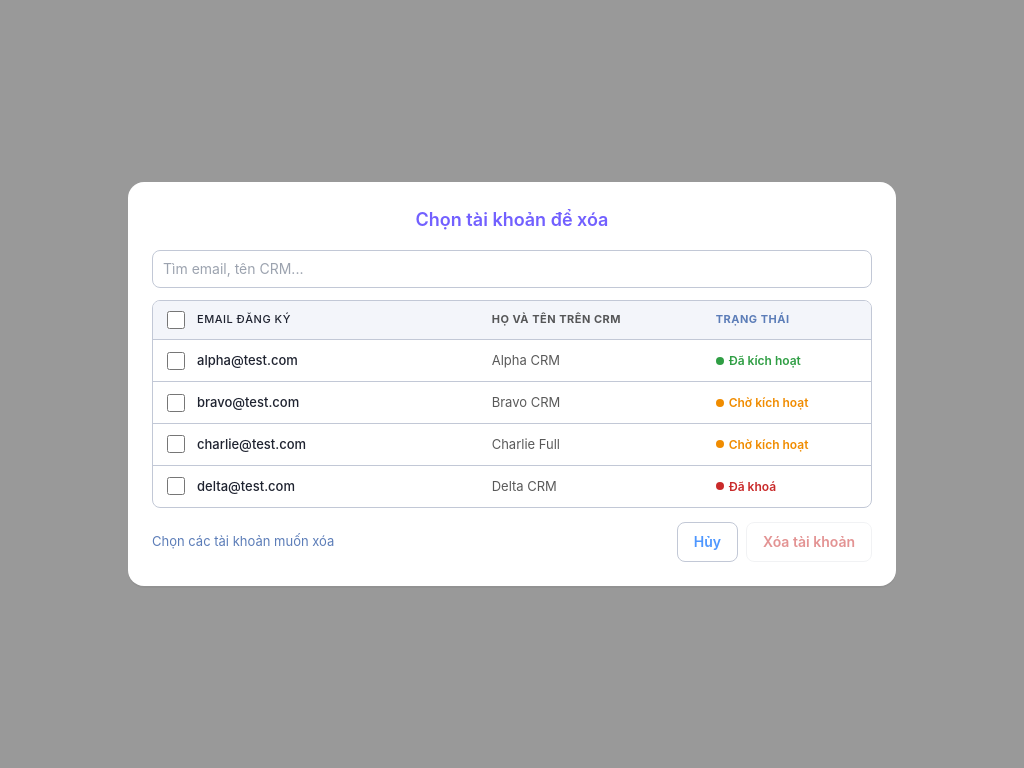
Test: DeleteAccountsModal › chọn 'tất cả' sau khi lọc KHÔNG xóa các lựa chọn nằm ngoài bộ lọc
# Bước 1: chọn alpha
Click the text "alpha@test.com".
click(512, 361)  # box left=153, top=340, right=871, bottom=382
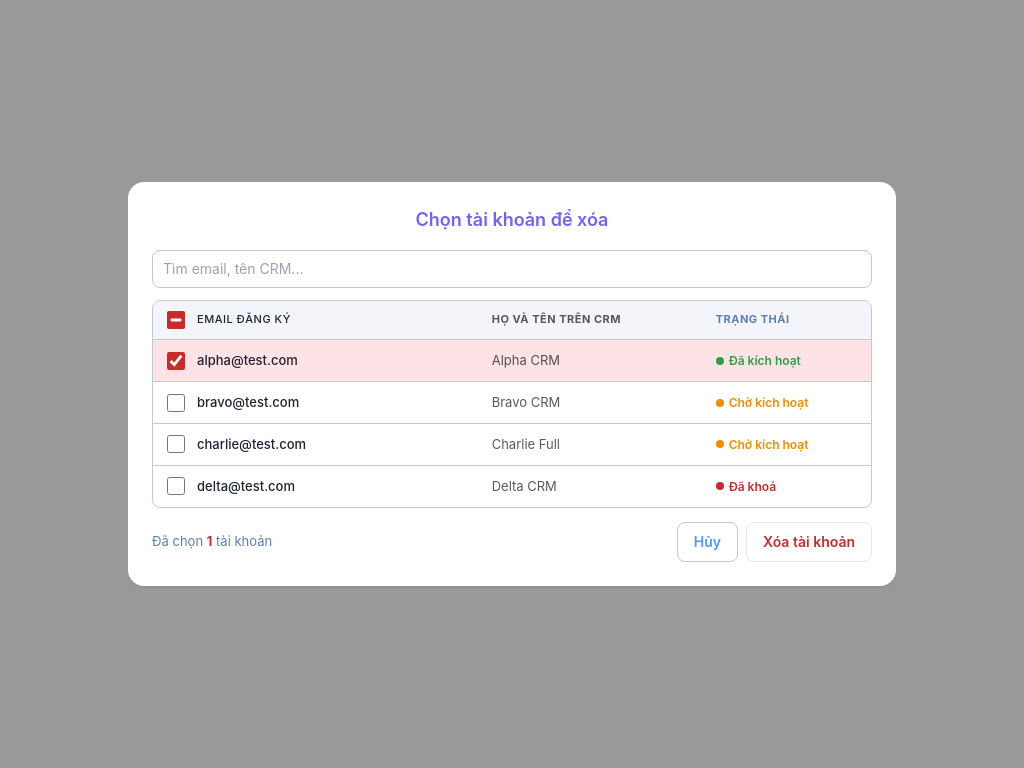
Expected: the text "Đã chọn 1 tài khoản" is shown, left=152, top=532, right=272, bottom=551
# Bước 2: lọc còn 'bravo' & 'charlie' không có
Type "bravo" into the search field with placeholder "Tìm email, tên CRM...".
click(512, 269); type("bravo")  # box left=152, top=250, right=872, bottom=288
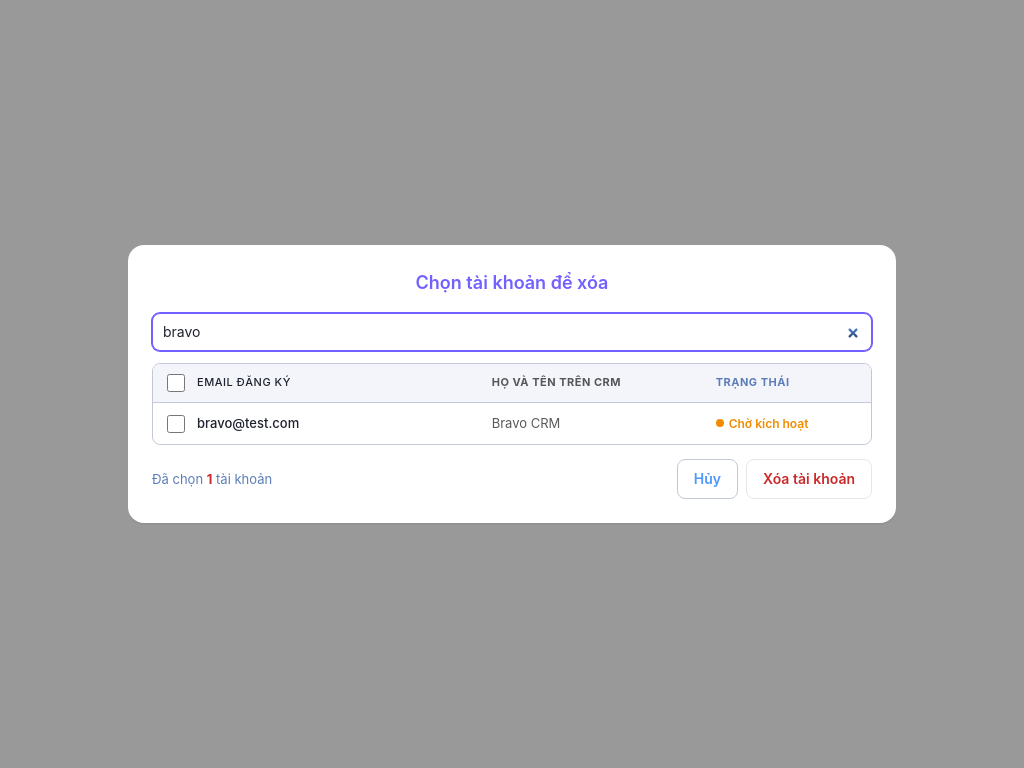
Expected: the text "alpha@test.com" is gone
Click the checkbox next to "Email đăng ký".
click(176, 383)  # box left=167, top=374, right=185, bottom=392
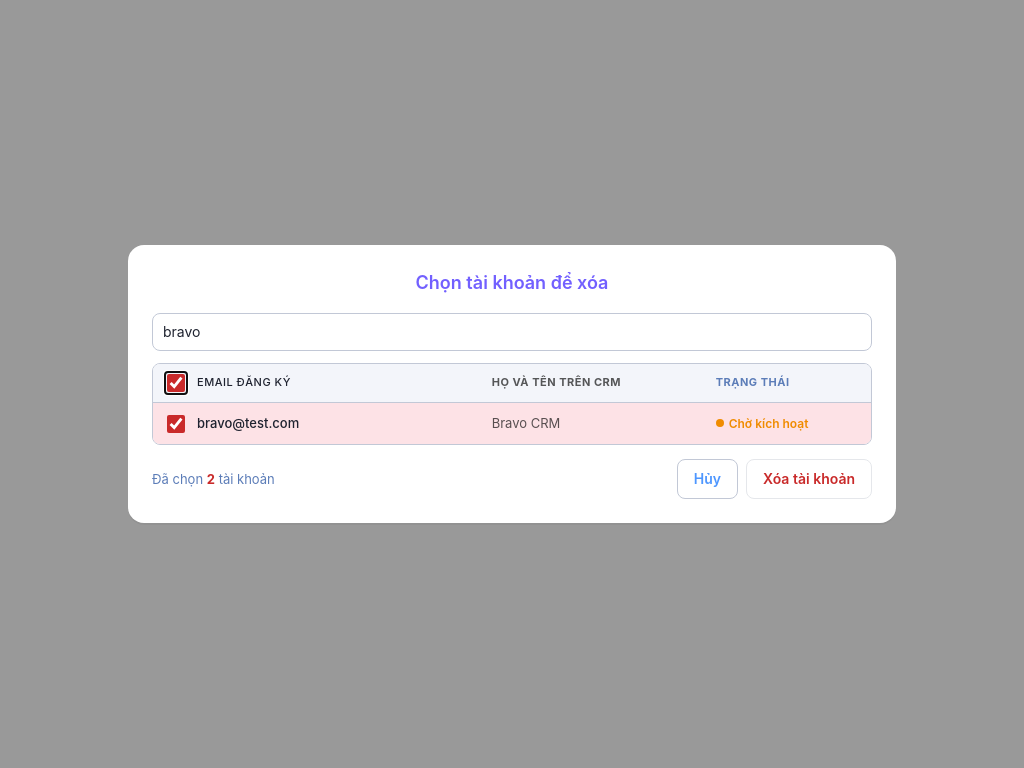
Expected: the text "Đã chọn 2 tài khoản" is shown, left=152, top=470, right=275, bottom=488
# Bước 4: bấm lại header để bỏ chọn rows đang hiển thị — alpha PHẢI vẫn còn
Click the checkbox next to "Email đăng ký".
click(176, 383)  # box left=167, top=374, right=185, bottom=392
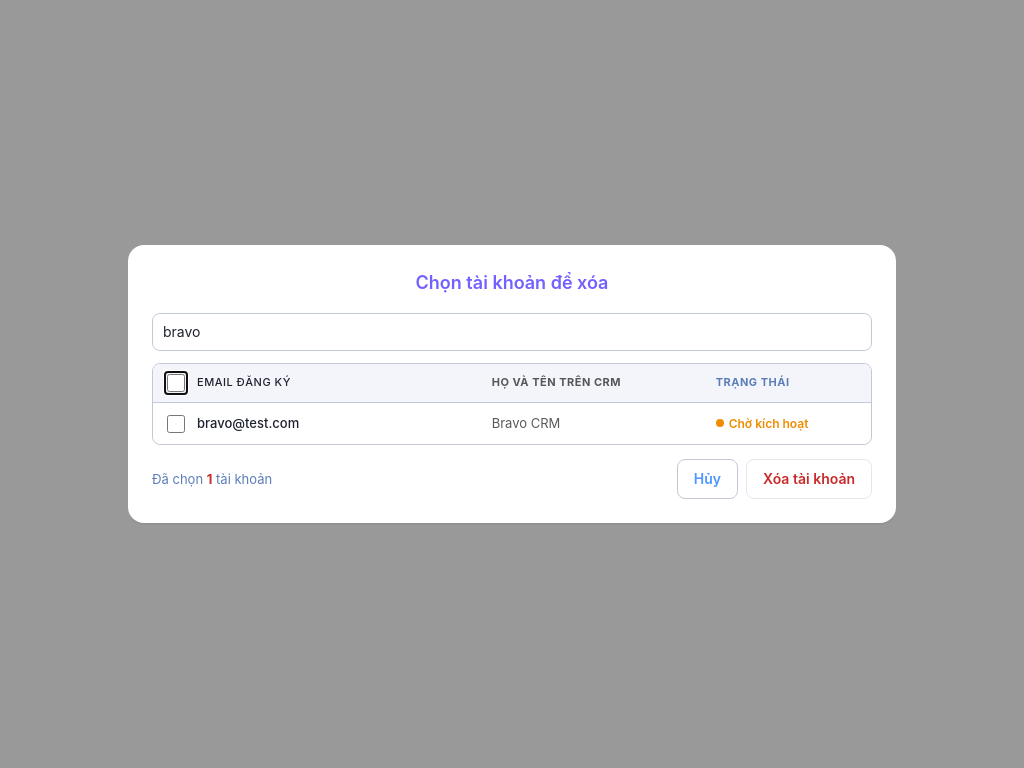
Expected: the text "Đã chọn 1 tài khoản" is shown, left=152, top=470, right=272, bottom=488
# Xóa filter → alpha vẫn được đánh dấu chọn
Clear the search field with placeholder "Tìm email, tên CRM..." at (512, 332), box left=152, top=313, right=872, bottom=351
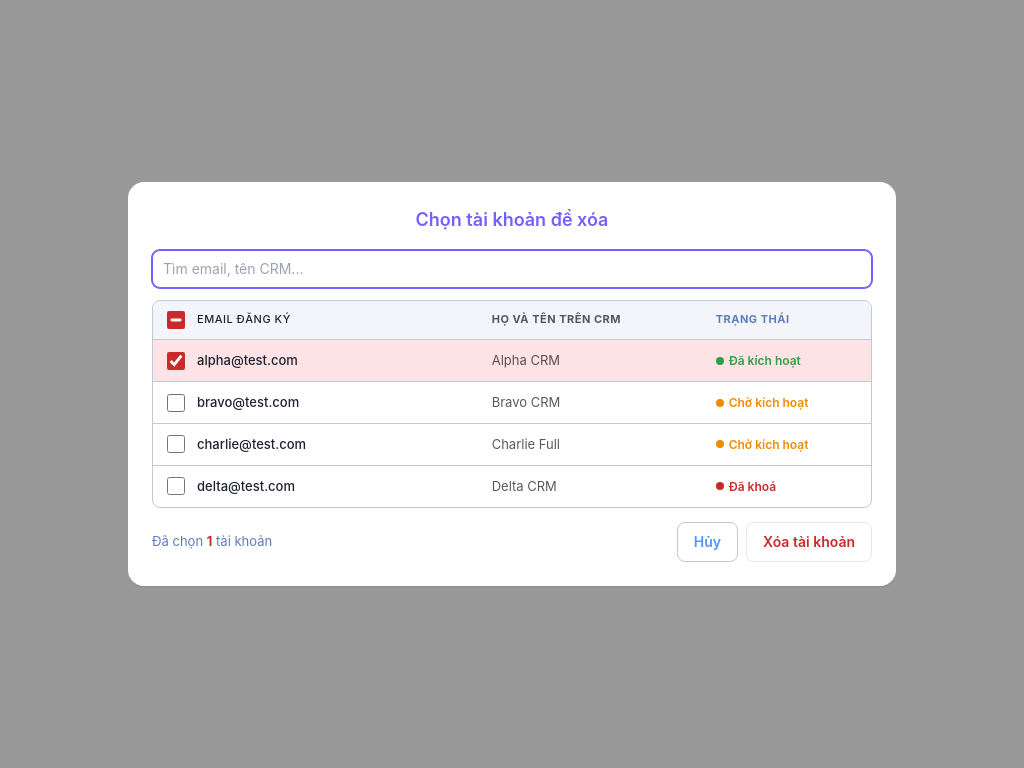
Expected: the checkbox next to "alpha@test.com" is checked, left=167, top=352, right=185, bottom=370
